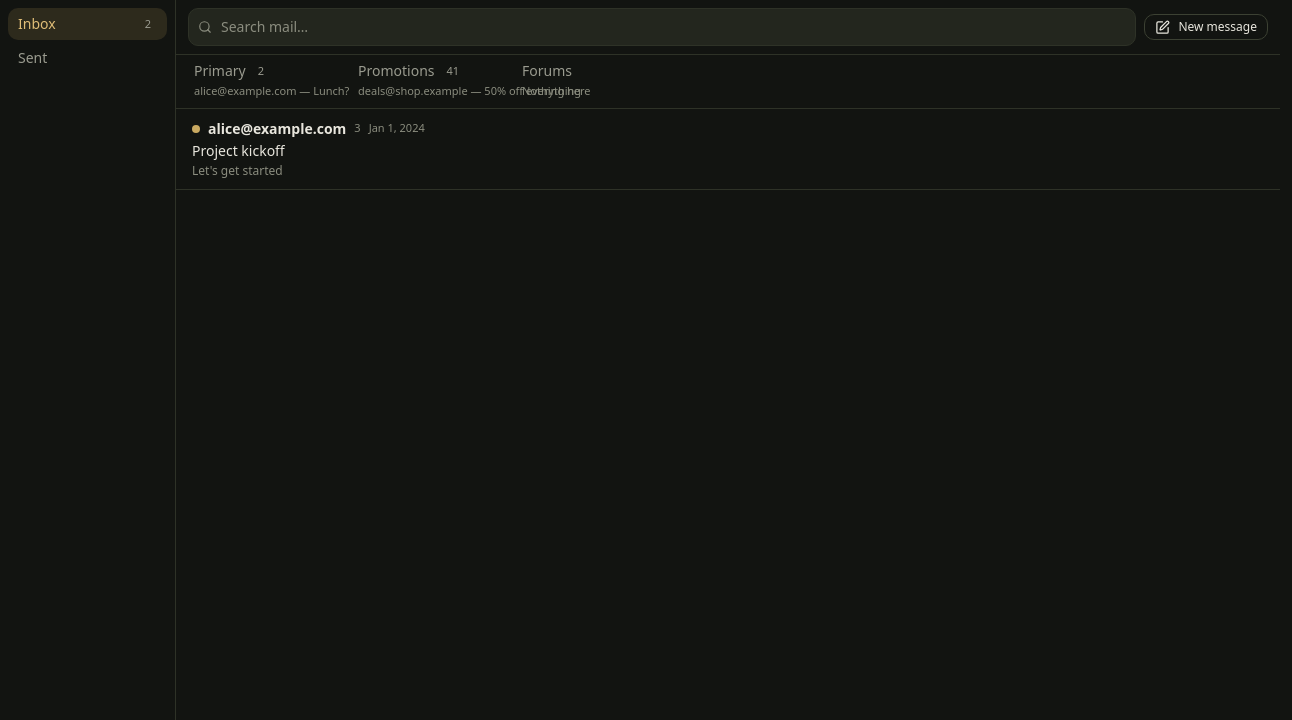
clicking the active tab clears the filter and returns to the whole Inbox
The image size is (1292, 720).
Click the tab "Promotions 41 deals@shop.example — 50% off everything" at (428, 81), box [348,55,508,108]
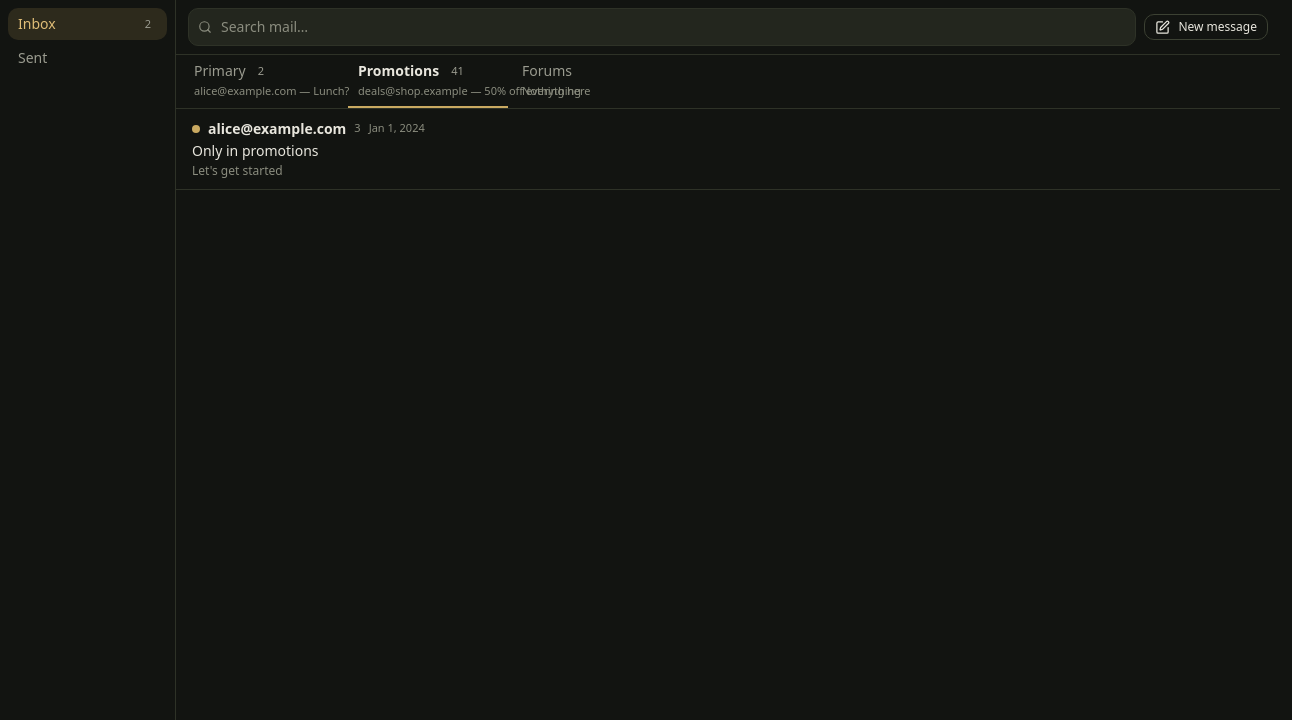
Expected: the text "Only in promotions" is shown, [192,140,318,160]
Click the tab "Promotions 41 deals@shop.example — 50% off everything" at (428, 81), box [348,55,508,108]
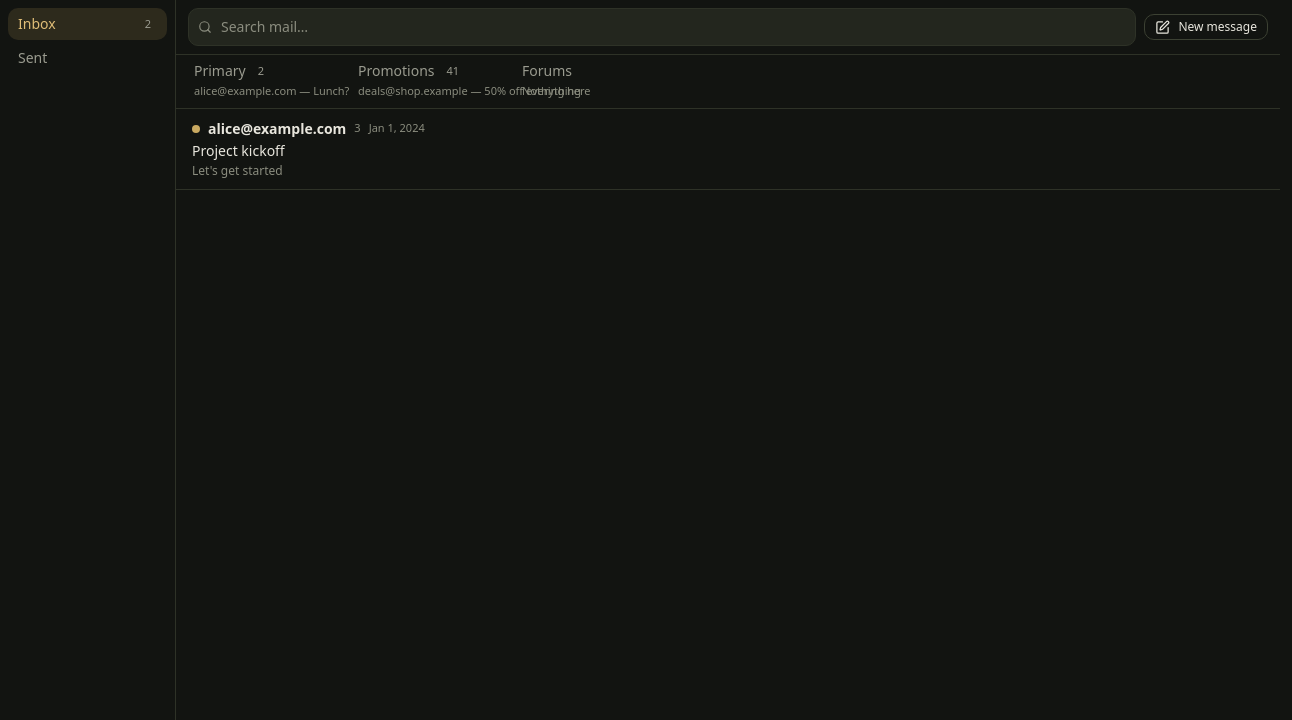
Expected: the text "Project kickoff" is shown, [192,140,285,160]
